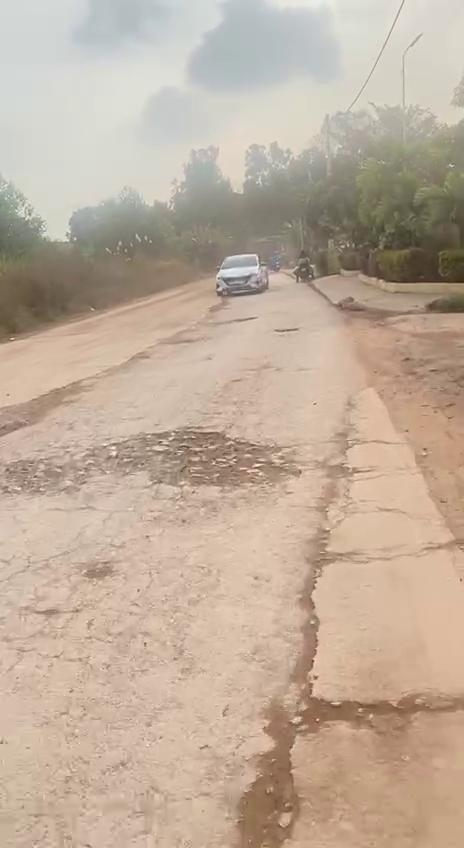pothole: (226, 674, 464, 848), (128, 426, 297, 495), (0, 456, 89, 507)
